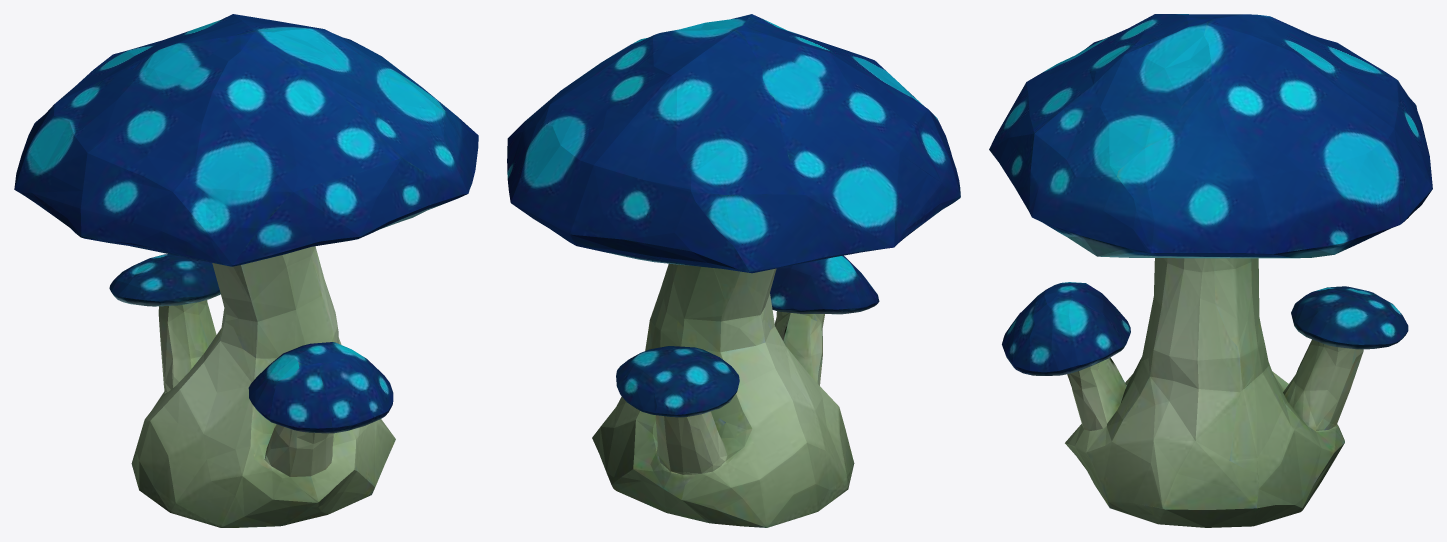
File: d_mycelium_champignon_geant.glb
3 views of the same model, side by side, from view 1: azimuth 30°, elevation 25°; view 2: azimuth 150°, elevation 25°; view 3: azimuth 270°, elevation 25° (orthographic).
Visible parts, largest first — view 1: geometry_0; view 2: geometry_0; view 3: geometry_0.
Boxes of the visible parts, box(x1,y1,x2,y2) form: geometry_0: box(14, 14, 478, 527); geometry_0: box(507, 14, 960, 527); geometry_0: box(989, 14, 1432, 527).
Bounding box in the file's own units: 0.9254 × 0.999 × 0.8857.
1 material, 1 textured.
